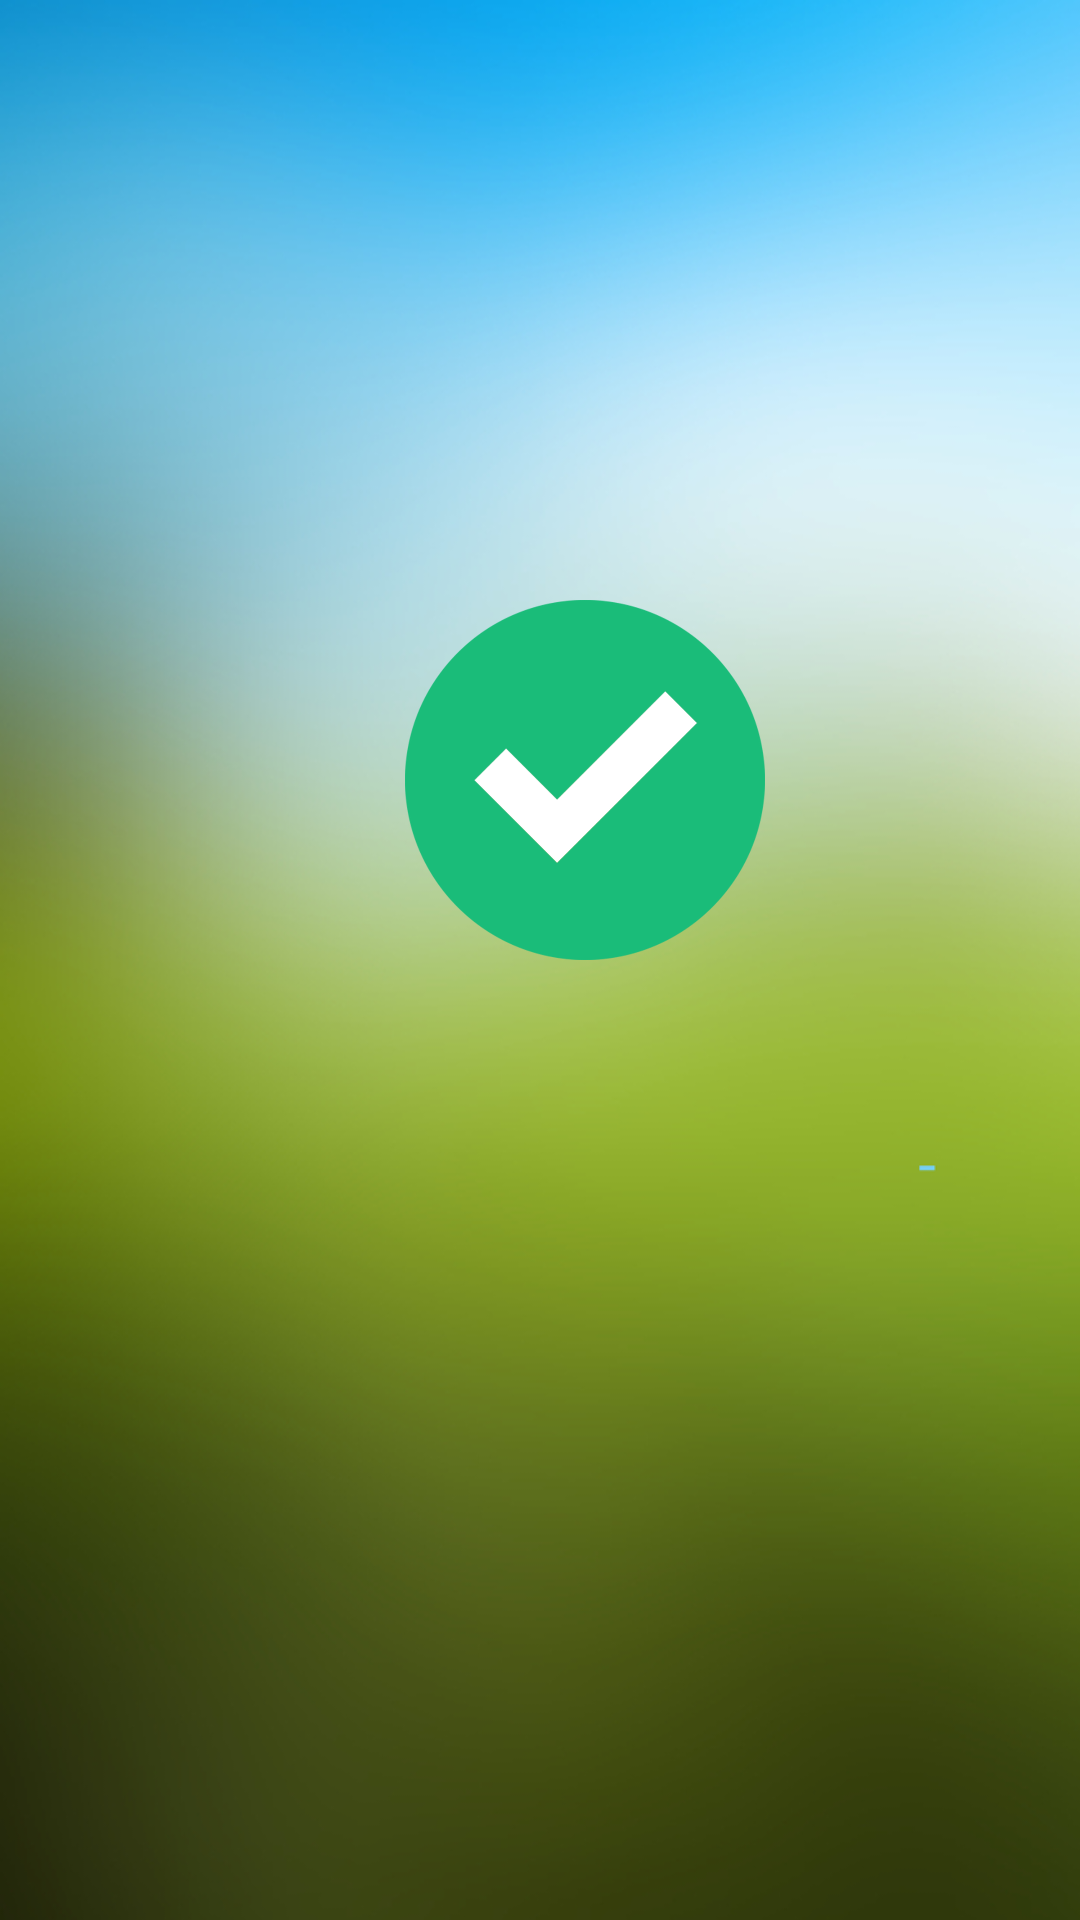

Icons on this 1080 x 1920 Android screen, each with the point to tap as (x,y):
success: (585,780)
